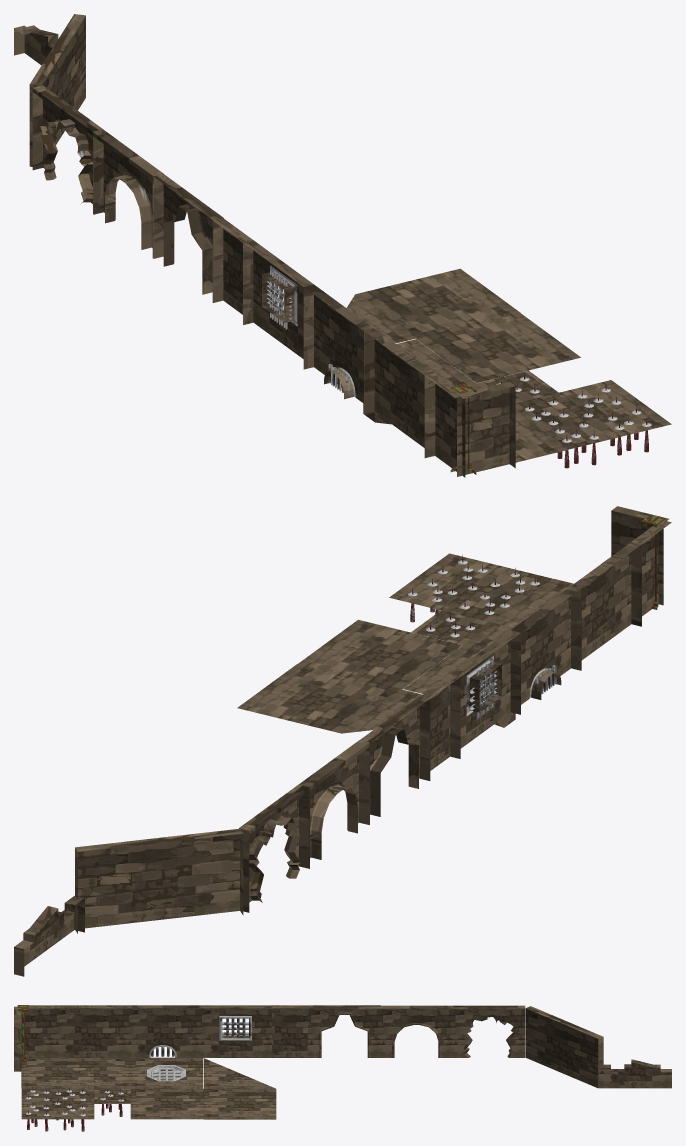
The model's file is wall_Floor_v6.fbx.
The picture shows the model from 3 angles, top to bottom: view 1: azimuth 30°, elevation 25°; view 2: azimuth 150°, elevation 25°; view 3: azimuth 270°, elevation 25°; orthographic projection. The views are drawn at different scales.
Visible parts, largest first — view 1: WallCorner, pattern_floor, pattern_floor2, FloorTrap, WallGutter, WallSquare, WallWindow, Breach, Doorway, Archway, WallDiagnal, WallHalf (+6 smaller); view 2: WallDiagnal, pattern_floor, pattern_floor2, FloorTrap, WallGutter, WallSquare, WallWindow, Doorway, WallCorner, Archway, Breach, WallHalf (+5 smaller); view 3: WallDiagnal, WallSquare, WallGutter, WallWindow, Doorway, Breach, pattern_floor, pattern_floor2, FloorTrap, Archway, FloorGutter, WallCorner (+7 smaller).
Boxes of the visible parts, x1,y1,x2,y2 form: WallCorner: (425,373,515,477); pattern_floor: (416,313,580,383); pattern_floor2: (356,268,520,338); FloorTrap: (515,380,671,449); WallGutter: (304,284,374,413); WallSquare: (364,329,435,458); WallWindow: (243,240,313,369); Breach: (32,85,103,214); Doorway: (93,129,163,258); Archway: (152,174,223,302); WallDiagnal: (29,14,85,166); WallHalf: (212,218,253,324); WallDiagnal: (75,828,243,933); pattern_floor: (298,619,462,689); pattern_floor2: (237,664,401,733); FloorTrap: (389,553,552,622); WallGutter: (510,586,581,714); WallSquare: (571,542,641,670); WallWindow: (450,630,520,758); Doorway: (299,740,369,868); WallCorner: (611,506,671,626); Archway: (359,696,429,824); Breach: (239,784,309,912); WallHalf: (420,674,459,780); WallDiagnal: (525,1006,603,1088); WallSquare: (54,1005,126,1057); WallGutter: (126,1005,199,1057); WallWindow: (199,1005,271,1057); Doorway: (380,1005,452,1057); Breach: (452,1005,525,1057); pattern_floor: (130,1088,203,1119); pattern_floor2: (203,1088,276,1119); FloorTrap: (21,1088,94,1119); Archway: (308,1005,380,1057); FloorGutter: (130,1057,202,1088); WallCorner: (14,1005,53,1071).
Bounding box in the file's own units: 47.09 × 25.11 × 202.
